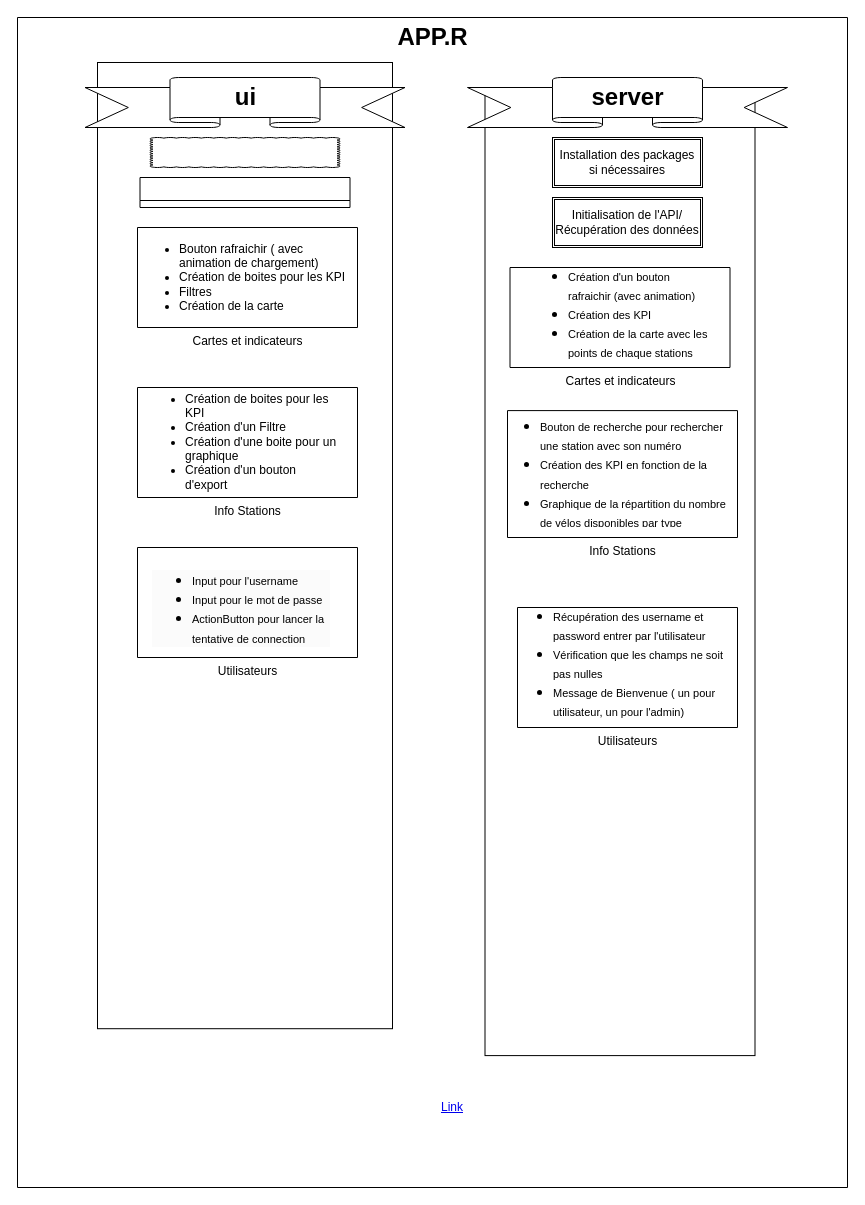
The diagram is 865 pixels wide and 1205 high, and some of its shapes have lost their labels. The centre of each missing label's shape, as x and y in pixels:
Création de plusieurs onglets: the point at 244,192
Interface utilisateur: the point at 244,152
